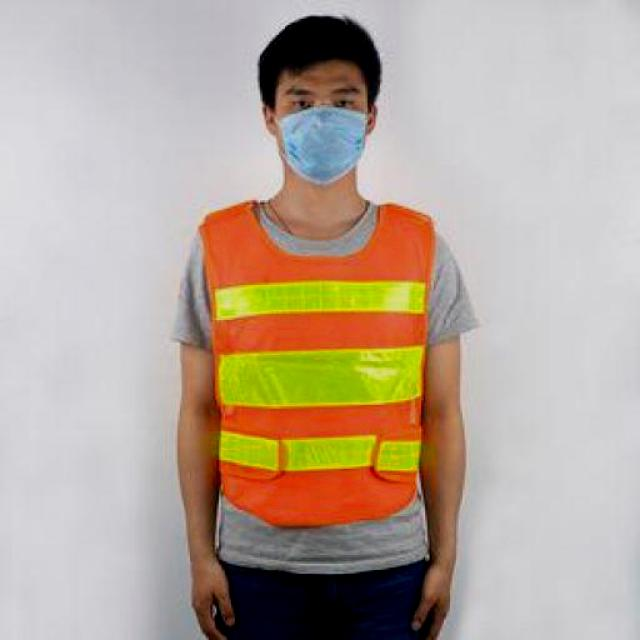face_mask: (272, 81, 371, 183)
hand_noglove: (397, 560, 462, 640), (182, 561, 244, 640)
head_nohelmet: (255, 12, 390, 88)
person: (167, 7, 481, 640)
vest: (200, 190, 440, 535)
